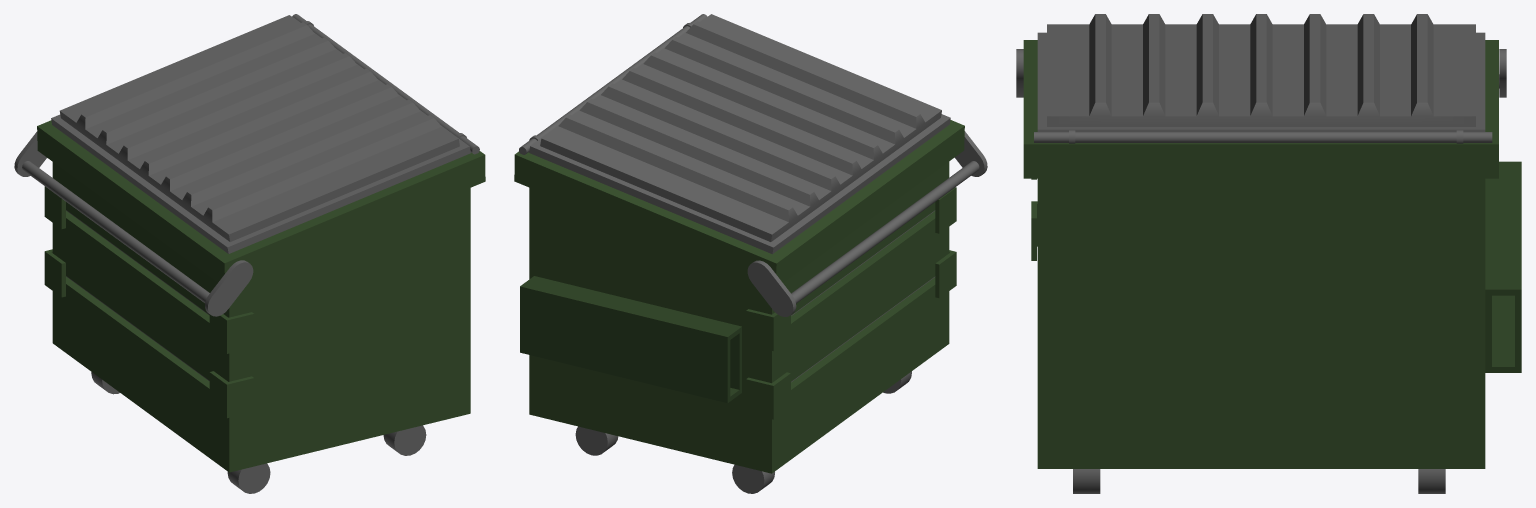
Rendered from TrashContainer.fbx.
3 views of the same model, side by side, from view 1: azimuth 30°, elevation 25°; view 2: azimuth 150°, elevation 25°; view 3: azimuth 270°, elevation 25° (orthographic). The views are drawn at different scales.
Parts seen in each view (by area): view 1: polySurface22; view 2: polySurface22; view 3: polySurface22.
Boxes of the visible parts, box(x1,y1,x2,y2) form: polySurface22: box(14, 14, 485, 493); polySurface22: box(514, 14, 987, 493); polySurface22: box(1016, 14, 1521, 493).
Size of the model in its own units: 2.43 by 2.68 by 2.99.
